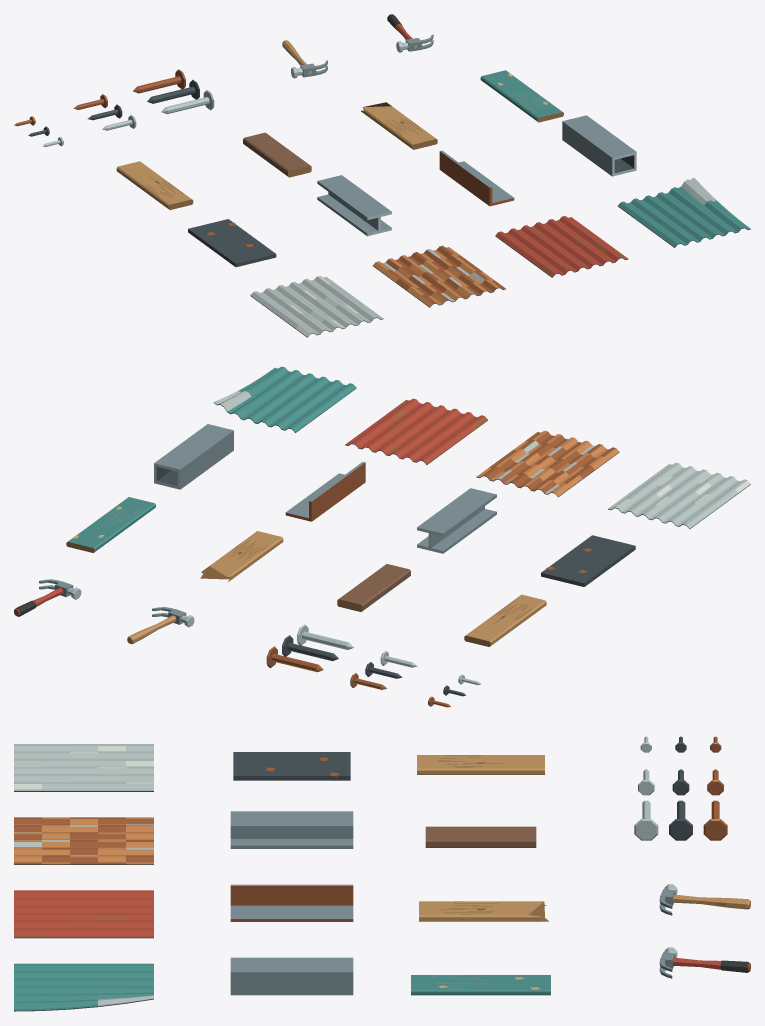
The model's file is retro_workshop_gallery.glb.
3 renders of one model, top to bottom at view 1: azimuth 30°, elevation 25°; view 2: azimuth 150°, elevation 25°; view 3: azimuth 270°, elevation 25°, orthographic. The views are drawn at different scales.
Parts seen in each view (by area): view 1: Sheet_Bent_Teal, Sheet_Red, Sheet_Rusty, Sheet_Galvanized, Steel_Box_Tube, Steel_I_Beam, Steel_Plate, Plank_Painted, Steel_L_Angle, Plank_Broken, Plank_Pine, Plank_Dark (+2 smaller); view 2: Sheet_Bent_Teal, Sheet_Rusty, Sheet_Galvanized, Sheet_Red, Steel_Box_Tube, Steel_I_Beam, Steel_Plate, Plank_Painted, Steel_L_Angle, Plank_Broken, Plank_Pine, Plank_Dark (+5 smaller); view 3: Sheet_Red, Sheet_Galvanized, Sheet_Rusty, Sheet_Bent_Teal, Steel_Box_Tube, Steel_I_Beam, Steel_L_Angle, Steel_Plate, Plank_Painted, Plank_Broken, Plank_Pine, Plank_Dark (+5 smaller).
Boxes of the visible parts, x1,y1,x2,y2 form: Sheet_Bent_Teal: (617, 177, 750, 247); Sheet_Red: (495, 216, 628, 277); Sheet_Rusty: (372, 245, 505, 307); Sheet_Galvanized: (250, 275, 383, 337); Steel_Box_Tube: (562, 115, 636, 176); Steel_I_Beam: (317, 175, 391, 236); Steel_Plate: (188, 219, 276, 267); Plank_Painted: (480, 70, 563, 122); Steel_L_Angle: (439, 150, 514, 206); Plank_Broken: (361, 102, 437, 149); Plank_Pine: (116, 161, 193, 209); Plank_Dark: (243, 132, 311, 177); Sheet_Bent_Teal: (213, 366, 356, 432); Sheet_Rusty: (476, 430, 619, 497); Sheet_Galvanized: (608, 462, 750, 529); Sheet_Red: (345, 398, 487, 464); Steel_Box_Tube: (154, 424, 233, 489); Steel_I_Beam: (417, 488, 496, 553); Steel_Plate: (541, 535, 635, 586); Plank_Painted: (66, 497, 155, 552); Steel_L_Angle: (285, 462, 365, 521); Plank_Broken: (200, 531, 283, 582); Plank_Pine: (464, 594, 546, 646); Plank_Dark: (337, 564, 410, 611); Sheet_Red: (14, 890, 153, 938); Sheet_Galvanized: (14, 744, 153, 791); Sheet_Rusty: (14, 817, 153, 864); Sheet_Bent_Teal: (14, 963, 153, 1011); Steel_Box_Tube: (230, 957, 353, 995); Steel_I_Beam: (230, 811, 353, 848); Steel_L_Angle: (230, 884, 353, 921); Steel_Plate: (233, 752, 350, 780); Plank_Painted: (411, 975, 550, 995); Plank_Broken: (419, 901, 548, 921); Plank_Pine: (417, 755, 544, 774); Plank_Dark: (425, 826, 536, 847).
Bounding box in the file's own units: 4.78 × 0.1955 × 5.53.
